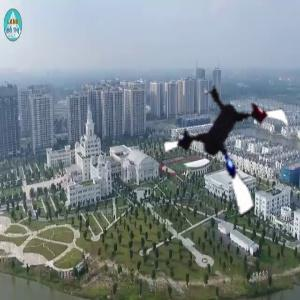drone: (158, 77, 300, 220)
